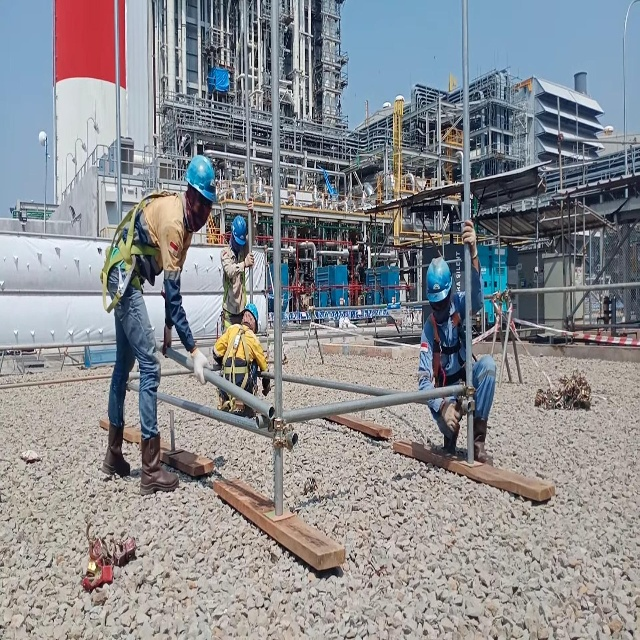Arnes_seguridad: (99, 181, 173, 318), (429, 306, 472, 396), (214, 325, 257, 408), (220, 244, 247, 334)
